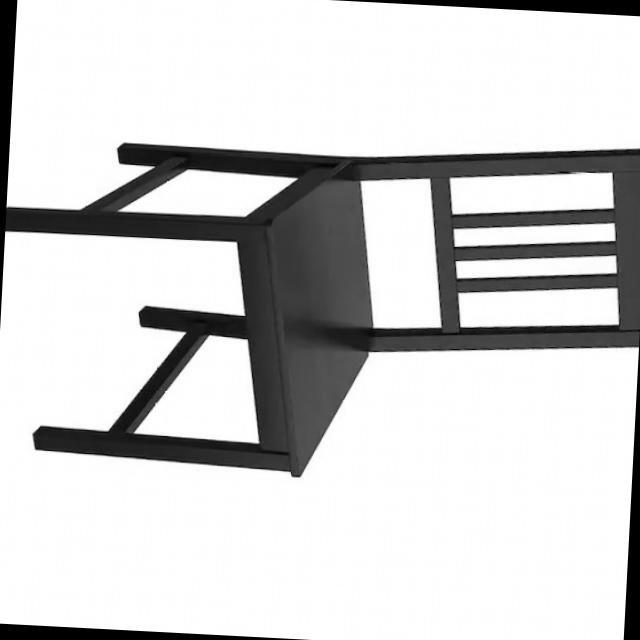chair: (0, 106, 640, 499)
